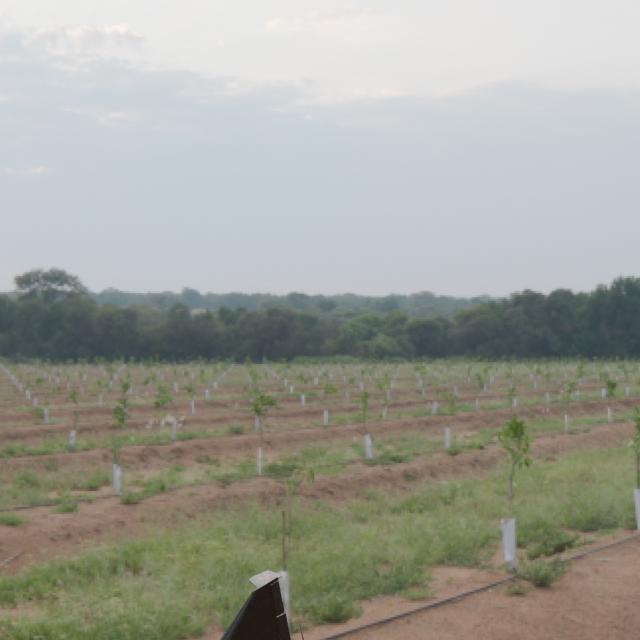Airaplan: (122, 570, 313, 640)
